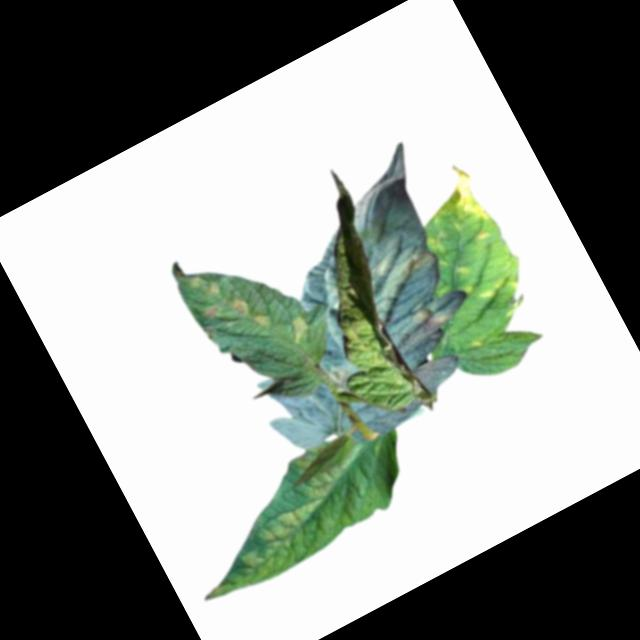Leaf_Mold: (176, 461, 373, 612), (355, 236, 453, 326), (421, 160, 494, 238), (389, 297, 459, 360), (473, 260, 528, 311), (230, 287, 275, 338), (285, 309, 314, 344), (328, 359, 356, 389)
